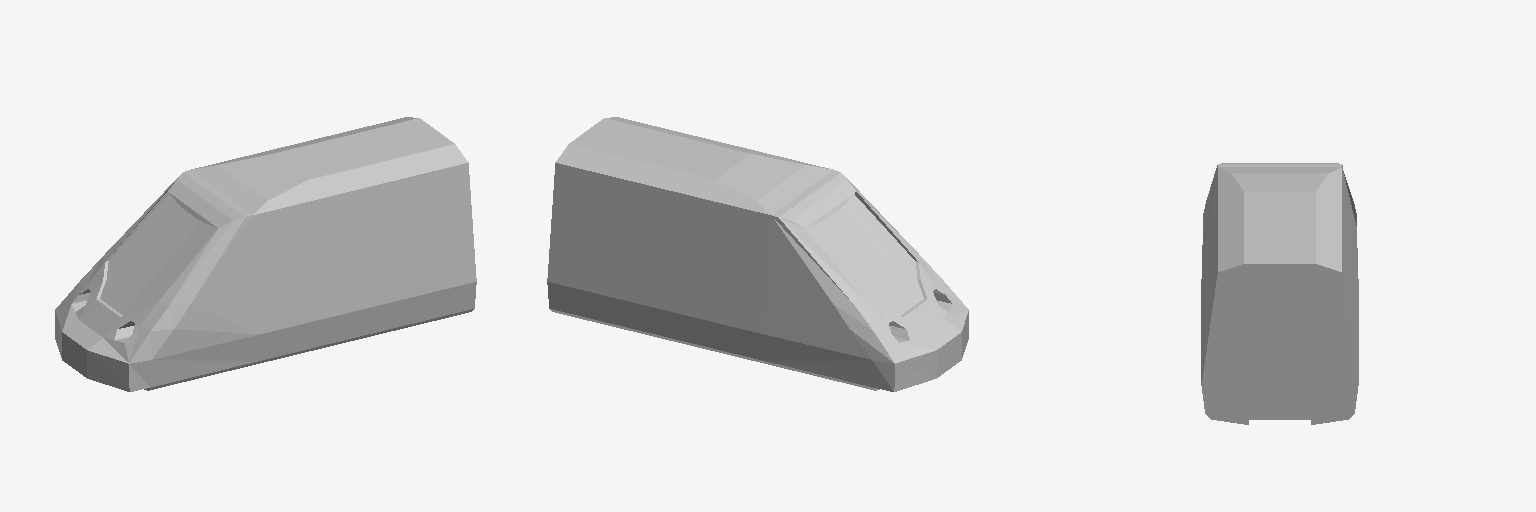
Rendered from engine_one.obj.
The picture shows the model from 3 angles: view 1: azimuth 30°, elevation 25°; view 2: azimuth 150°, elevation 25°; view 3: azimuth 270°, elevation 25°; orthographic projection.
Visible parts, largest first — view 1: CAB, SHELL, FRAME; view 2: CAB, SHELL, FRAME; view 3: CAB, SHELL, FRAME.
Boxes of the visible parts, <box> form: CAB: <box>191,117,476,360</box>; SHELL: <box>55,170,260,391</box>; FRAME: <box>144,309,473,390</box>; CAB: <box>547,117,832,360</box>; SHELL: <box>763,170,968,391</box>; FRAME: <box>550,309,879,390</box>; CAB: <box>1201,167,1358,413</box>; SHELL: <box>1201,163,1358,279</box>; FRAME: <box>1206,414,1353,424</box>.
Bounding box in the file's own units: 6.72 × 2.86 × 2.52.